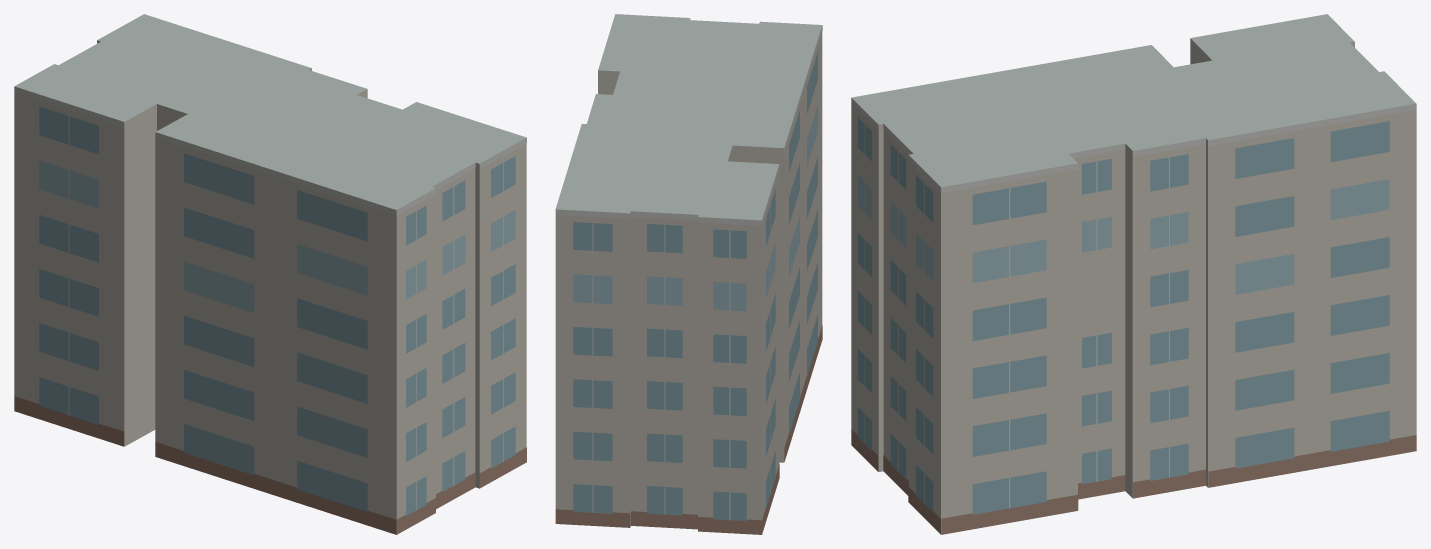
File: survey-upis-32704640.glb
The picture shows the model from 3 angles, left to right: view 1: azimuth 30°, elevation 25°; view 2: azimuth 150°, elevation 25°; view 3: azimuth 270°, elevation 25°; orthographic projection. The views are drawn at different scales.
Parts seen in each view (by area): view 1: survey-upis-32704640.tmp; view 2: survey-upis-32704640.tmp; view 3: survey-upis-32704640.tmp.
Boxes of the visible parts, x1,y1,x2,y2 form: survey-upis-32704640.tmp: (14,14,526,534); survey-upis-32704640.tmp: (555,14,822,534); survey-upis-32704640.tmp: (851,14,1416,534).
Bounding box in the file's own units: 14.98 × 14 × 20.64.
